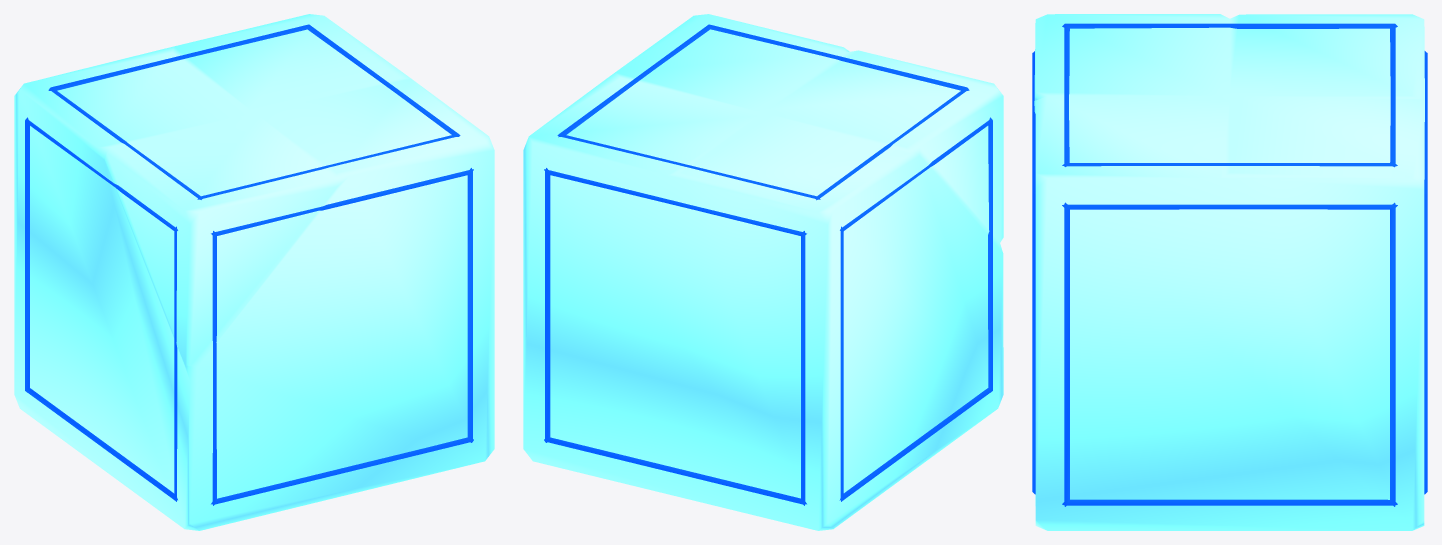
File: tokenCube.glb
The picture shows the model from 3 angles, left to right: view 1: azimuth 30°, elevation 25°; view 2: azimuth 150°, elevation 25°; view 3: azimuth 270°, elevation 25°; orthographic projection. The views are drawn at different scales.
Visible parts, largest first — view 1: mainCube, subCube; view 2: mainCube, subCube; view 3: mainCube, subCube.
Part boxes in pixels (box(x1,y1,x2,y2)): mainCube: box(14, 14, 494, 530); subCube: box(25, 24, 473, 505); mainCube: box(523, 14, 1003, 530); subCube: box(544, 24, 992, 505); mainCube: box(1034, 14, 1424, 530); subCube: box(1032, 23, 1427, 506).
Size of the model in its own units: 0.4044 by 0.4044 by 0.4044.
